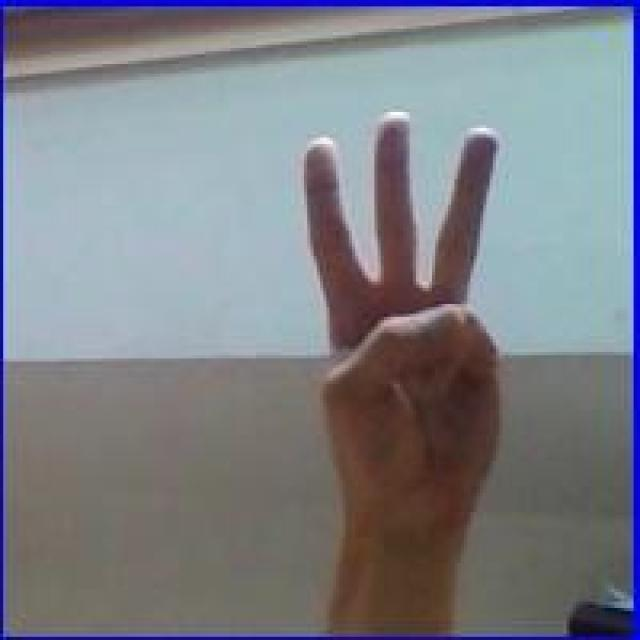W: (306, 107, 510, 530)
